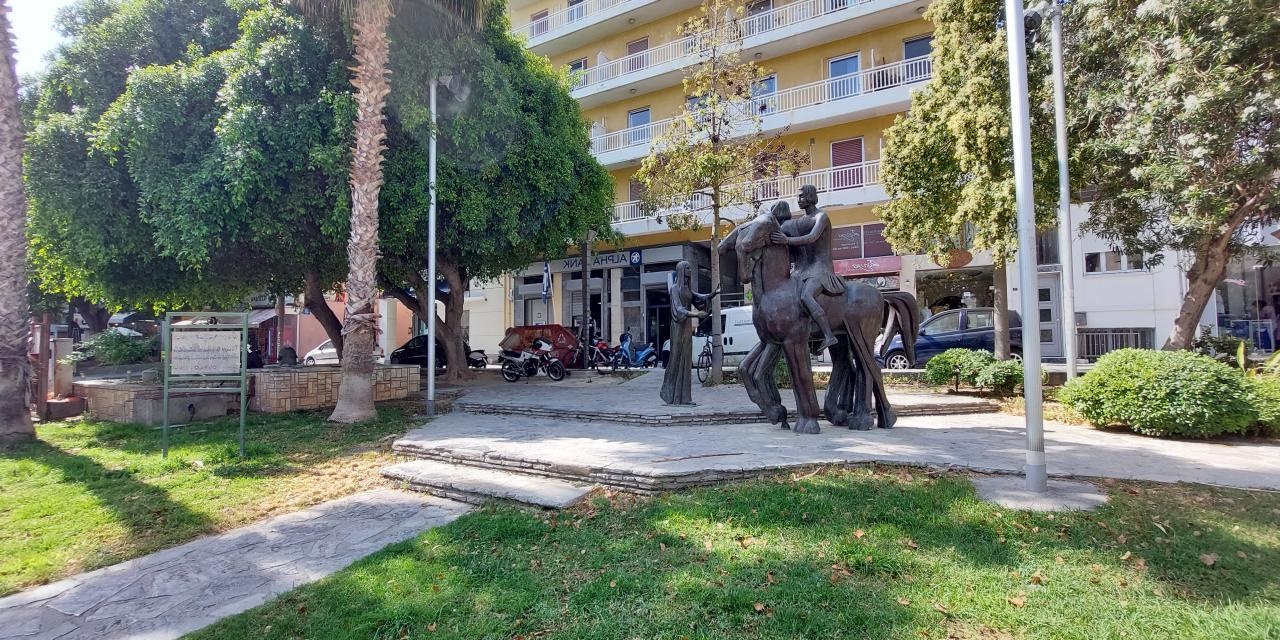Aretousa: (661, 186, 921, 434)
